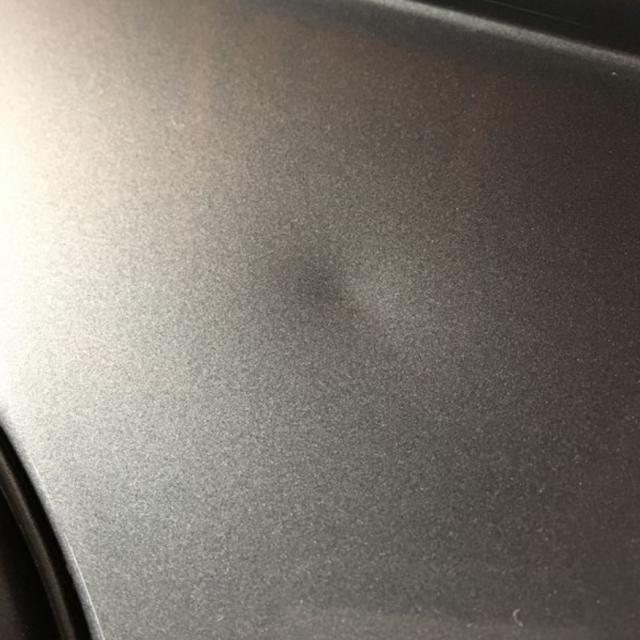dents: (271, 229, 435, 366)
